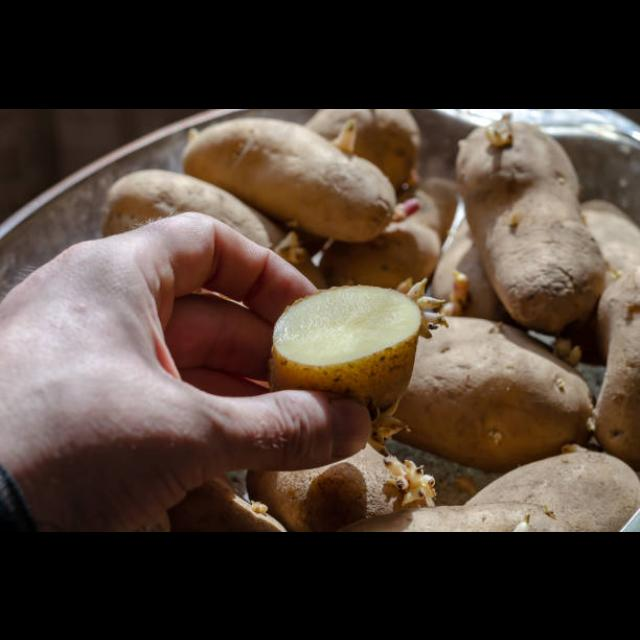Sprouted potato: (360, 309, 598, 481), (448, 110, 620, 338), (174, 116, 406, 250)
